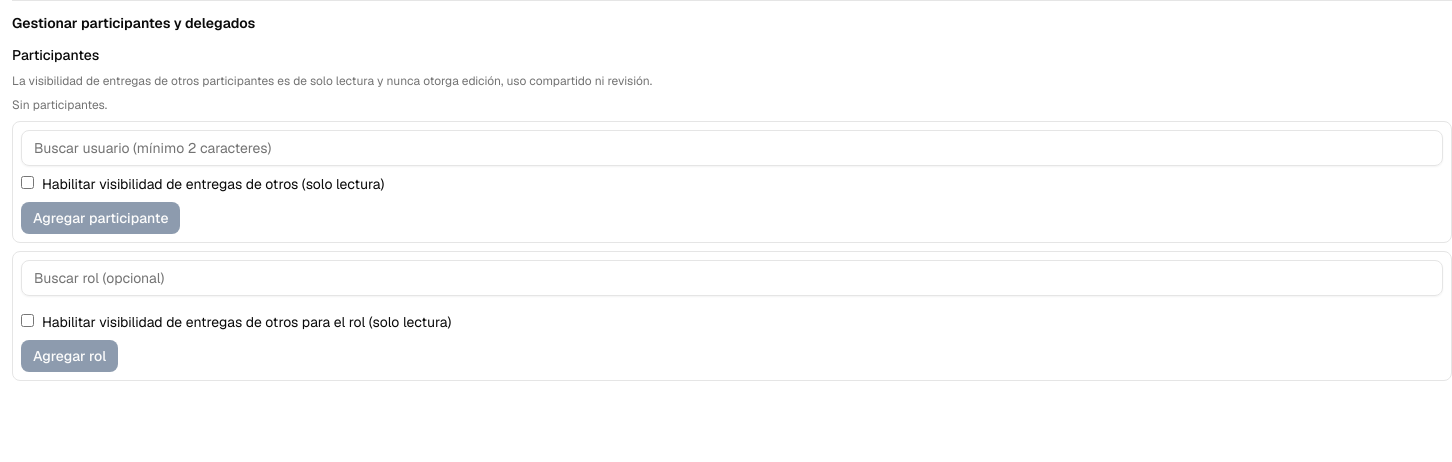
Test: requires an explicit selection and resets it when the search text changes
Type "an" into the field named "Buscar usuario para participante". click: (732, 148)
box: top-left (21, 130), bottom-right (1443, 166)
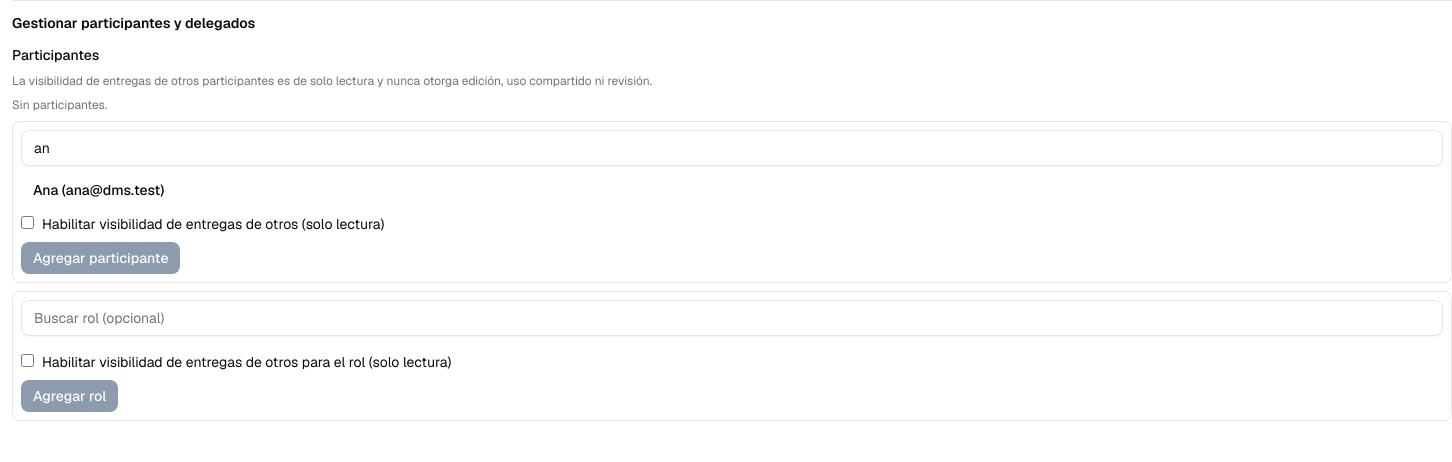
Click the button "Ana (ana@dms.test)". click: (99, 190)
box: top-left (21, 174), bottom-right (176, 206)
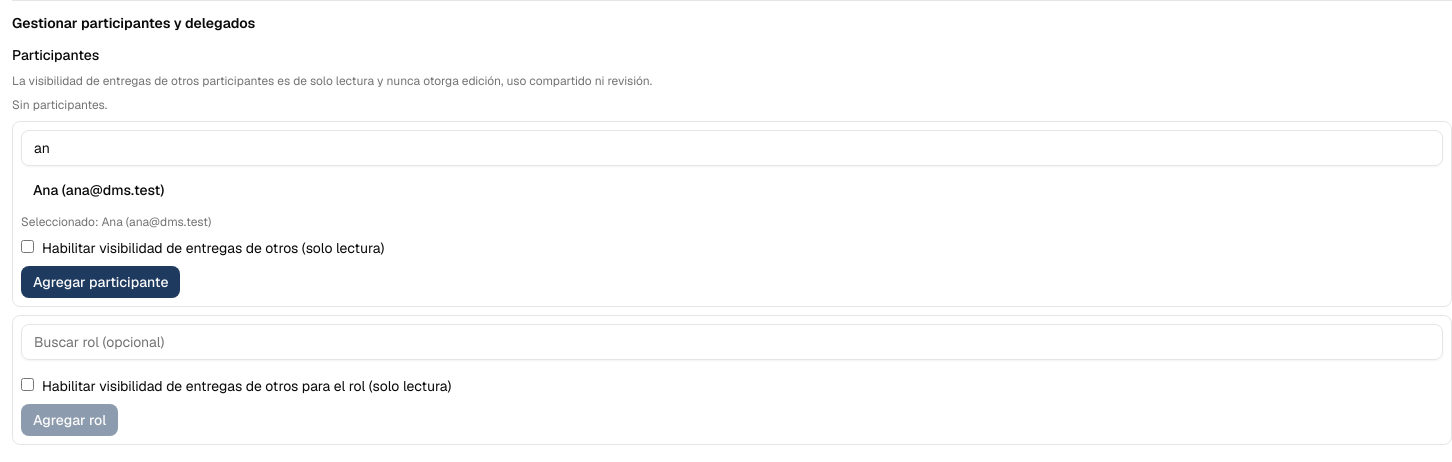
Expected: the button "Agregar participante" is enabled, top-left (21, 266), bottom-right (180, 298)
Replace the text in the field named "Buscar usuario para participante" with "ot". click: (732, 148)
box: top-left (21, 130), bottom-right (1443, 166)
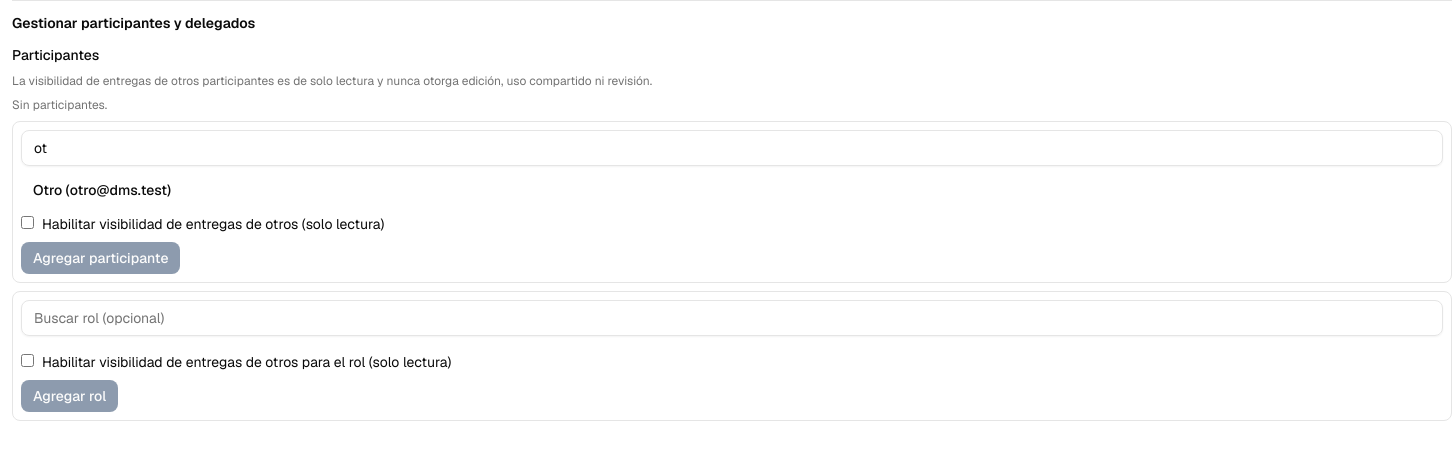
Expected: the button "Otro (otro@dms.test)" is shown, top-left (21, 174), bottom-right (183, 206)
Expected: the button "Agregar participante" is disabled, top-left (21, 242), bottom-right (180, 274)
